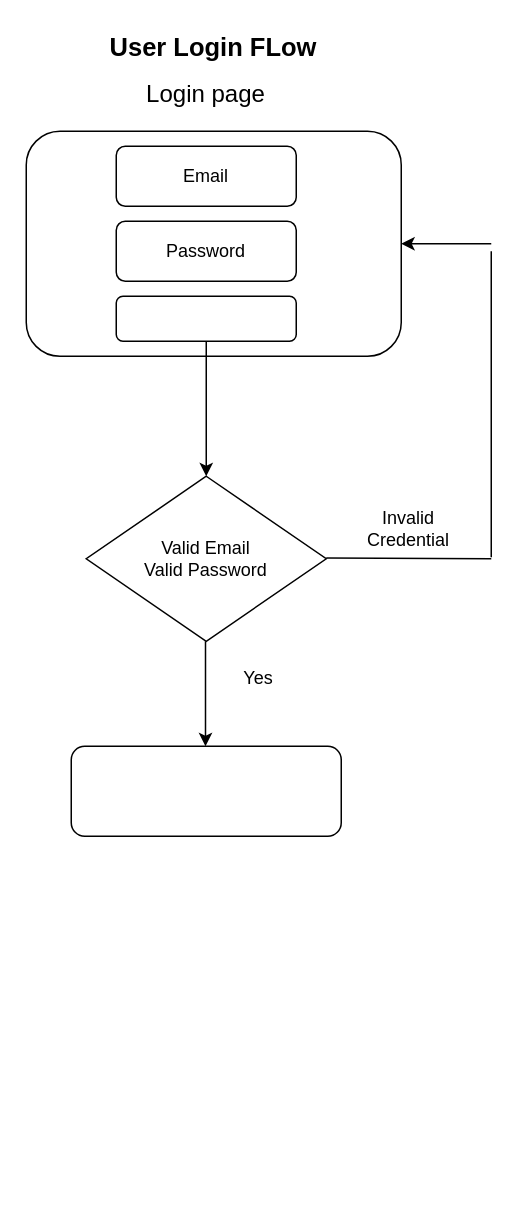
The diagram is 530 pixels wide and 1205 high, and some of its shapes have lost their labels. The box of each missing label's shape, as (x1, y1, x2, y2) in pixels:
Home Page: (70, 745, 341, 836)
Login: (115, 295, 296, 341)
